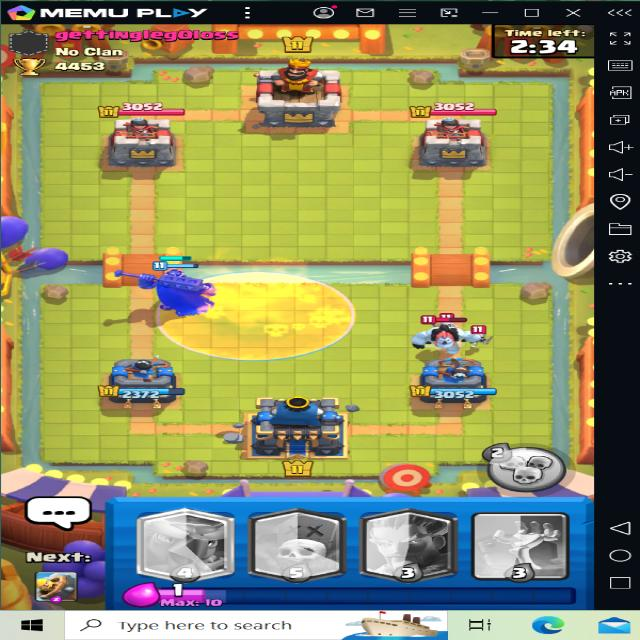Icegolem: (415, 322, 481, 356)
Skeleton: (431, 312, 464, 329), (466, 325, 488, 343)
